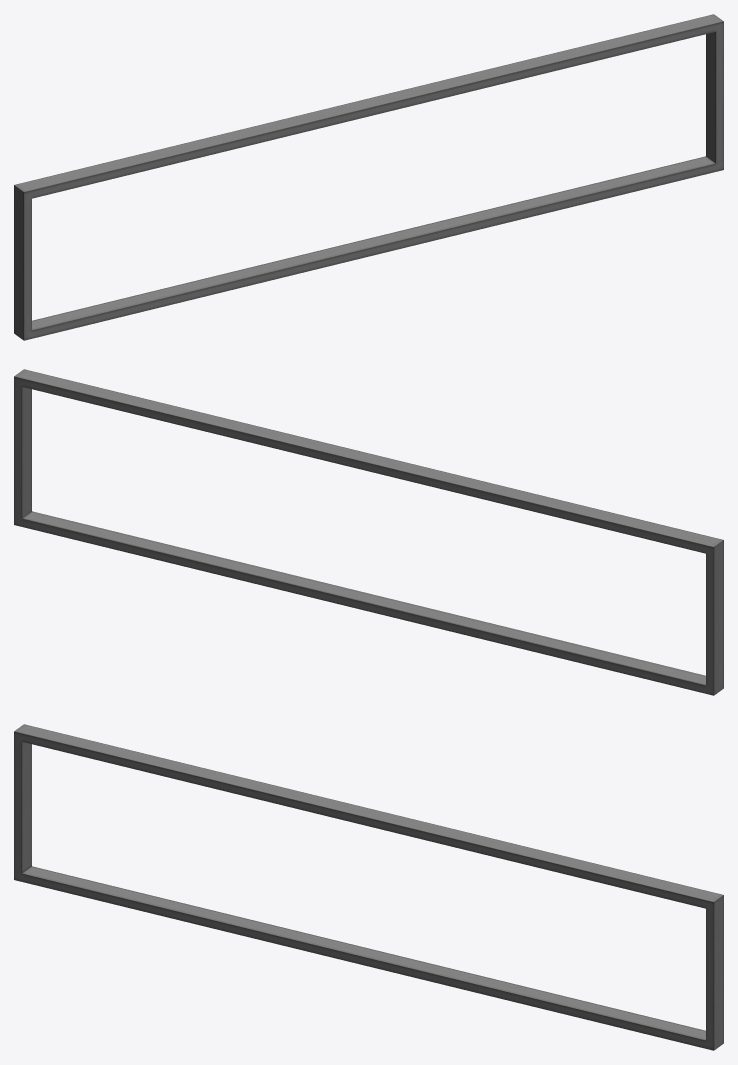
Rendered from menuItemOff.obj.
3 views of the same model, one above another, from view 1: azimuth 30°, elevation 25°; view 2: azimuth 150°, elevation 25°; view 3: azimuth 330°, elevation 25° (orthographic).
Parts seen in each view (by area): view 1: Rectangle005; view 2: Rectangle005; view 3: Rectangle005.
Part boxes in pixels (x1,y1,x2,y2): Rectangle005: [14, 14, 723, 340]; Rectangle005: [14, 369, 723, 695]; Rectangle005: [14, 724, 723, 1050].
Size of the model in its own units: 80.65 by 16.34 by 2.
1 material, 1 textured.
